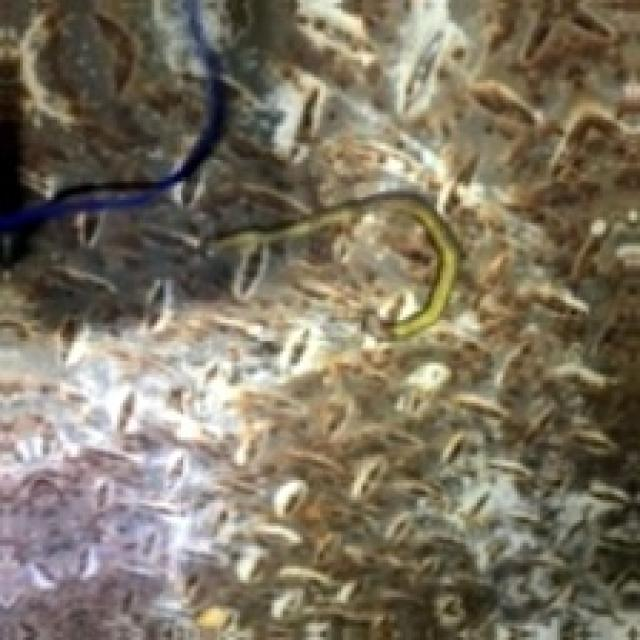gervais worm snake: (220, 191, 459, 338)
